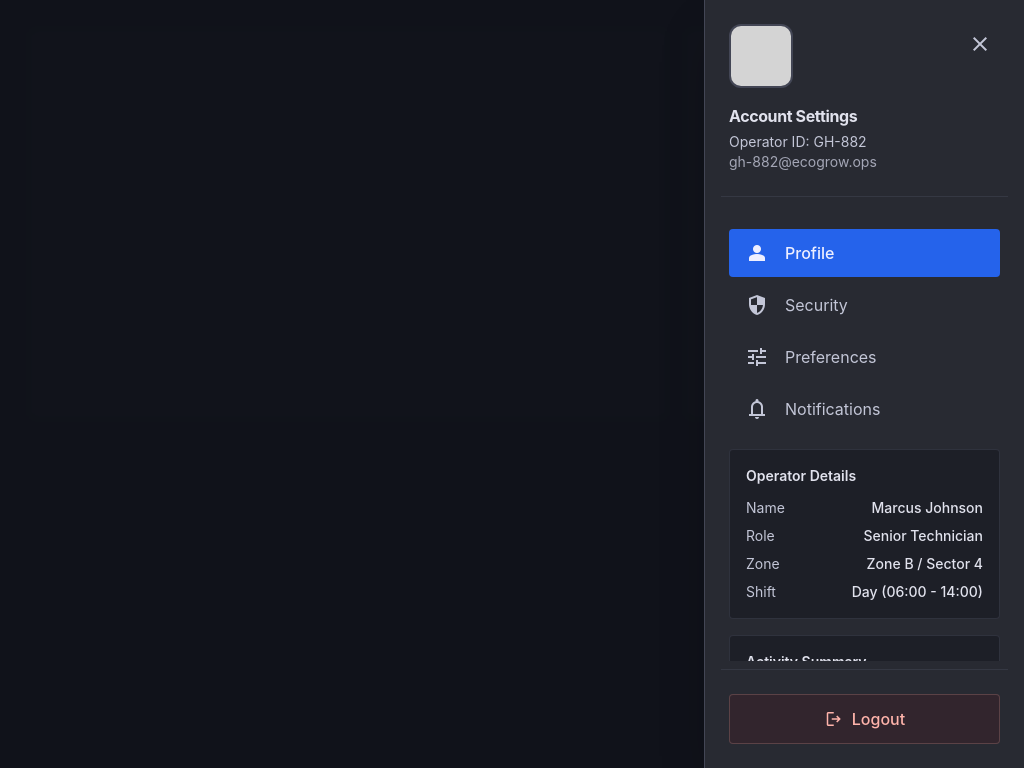
Test case: ProfilePanel › switches to security tab when clicked
Click the button "Security". click: click(816, 305)
box: [729,281,1000,329]
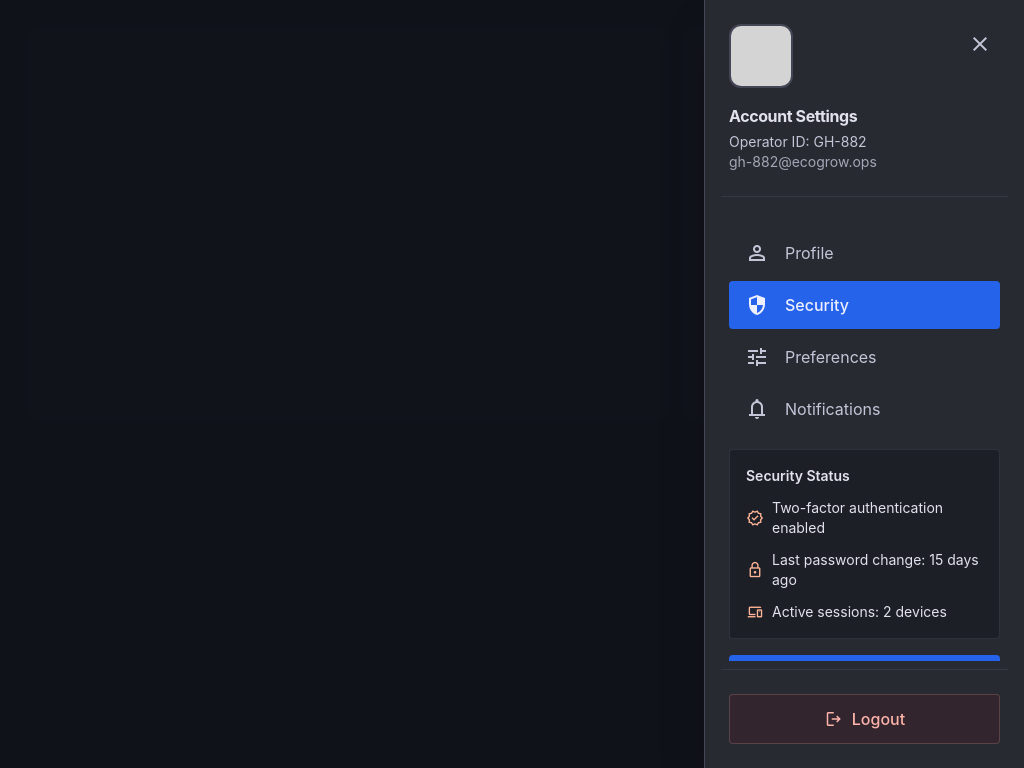
Check: the heading "Security Status" is shown, box [746,467,850,484]
Check: the text "Two-factor authentication enabled" is shown, box [772,499,943,536]
